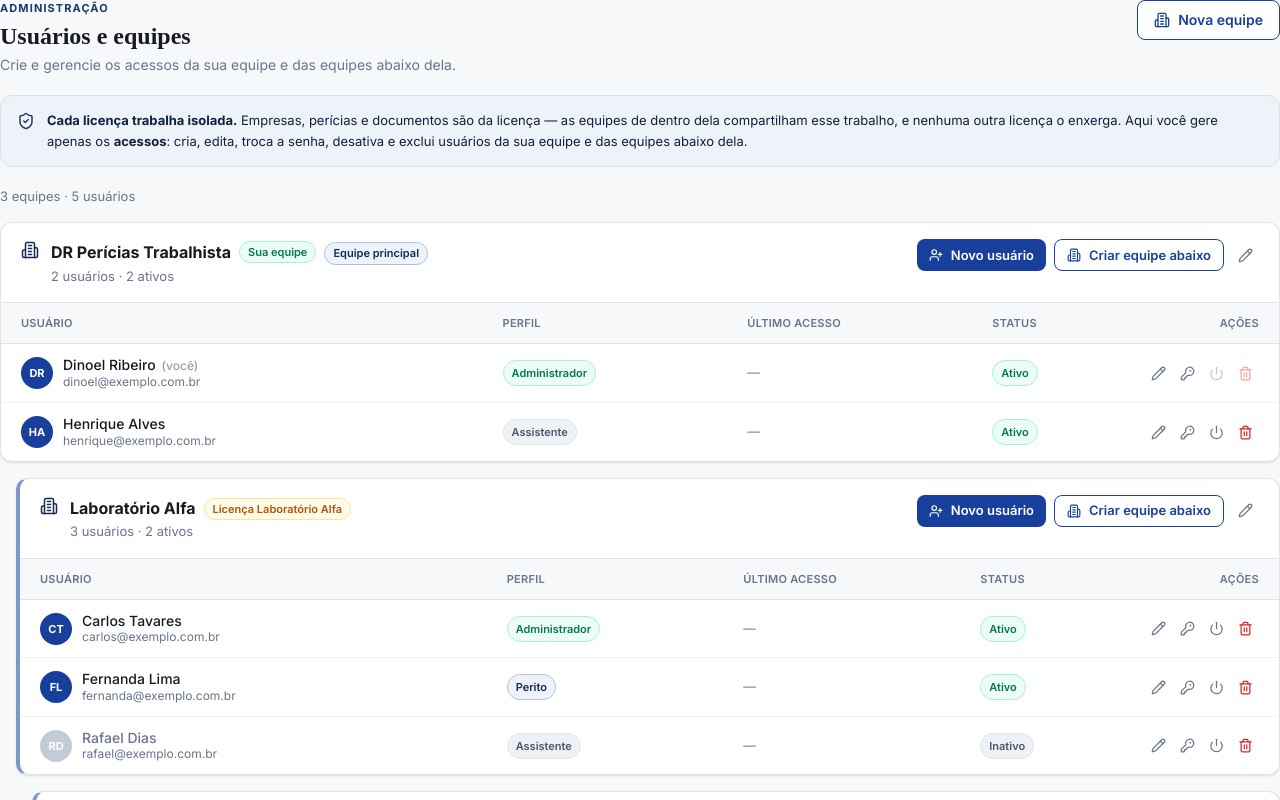
Test case: Usuários e equipes — cadastrar › pede a senha repetida e não cadastra se não conferir
The image size is (1280, 800).
Expected: the element named "Equipe DR Perícias Trabalhista" is shown, [0, 222, 1279, 462]
Click the button "Novo usuário" in the row of "Equipe principal" at x=981, y=255, box [917, 239, 1046, 271]
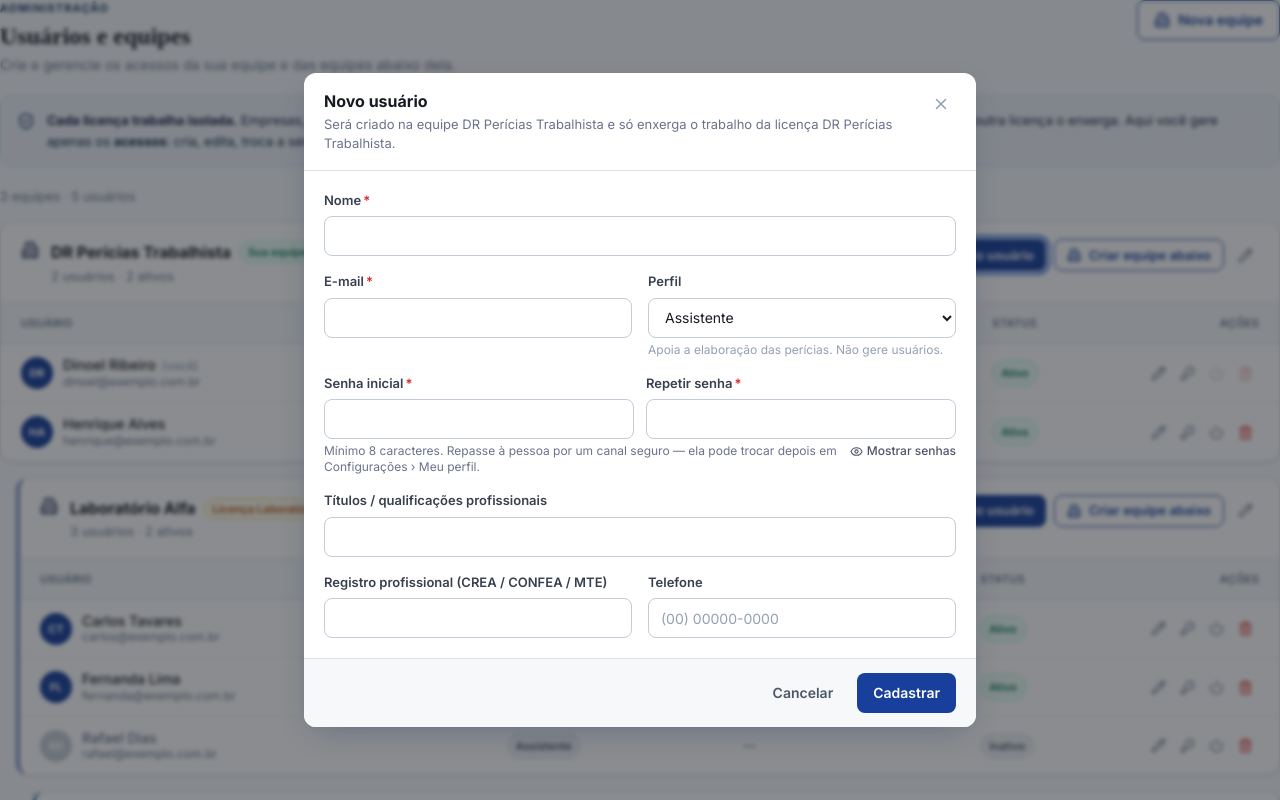
Type "Bruno" into the field labelled "Nome*" at x=640, y=236, box [324, 216, 956, 256]
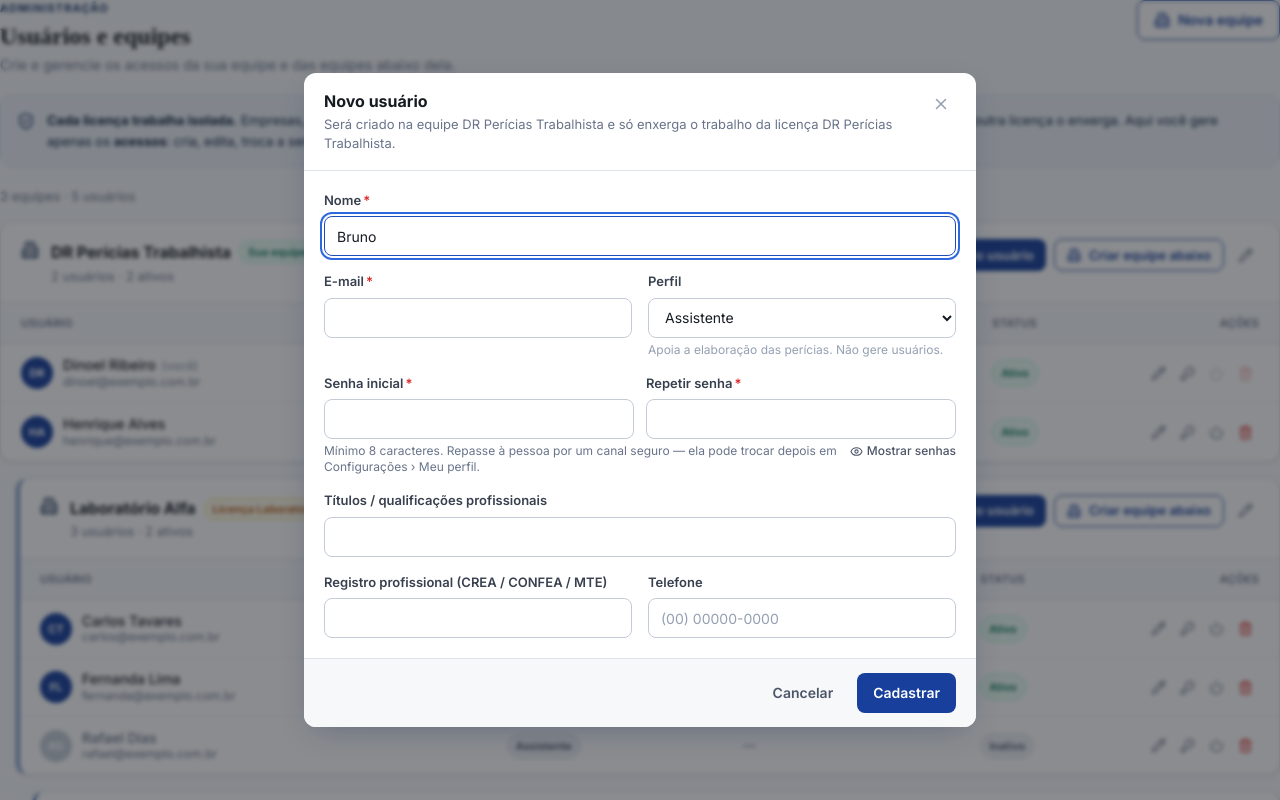
Type "bruno@x.com.br" into the field labelled "E-mail*" at x=478, y=318, box [324, 298, 632, 338]
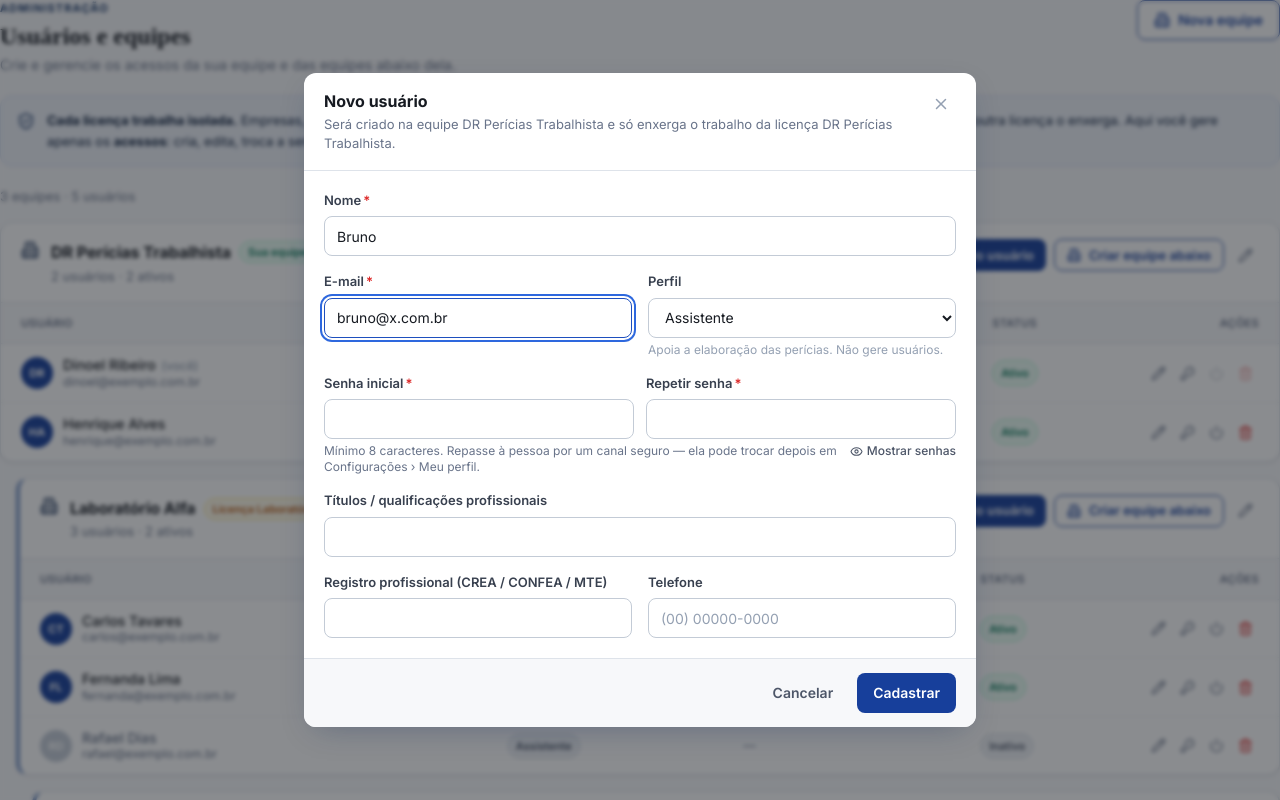
Type "senhaforte1" into the password field labelled "Senha inicial*" at x=479, y=419, box [324, 399, 634, 439]
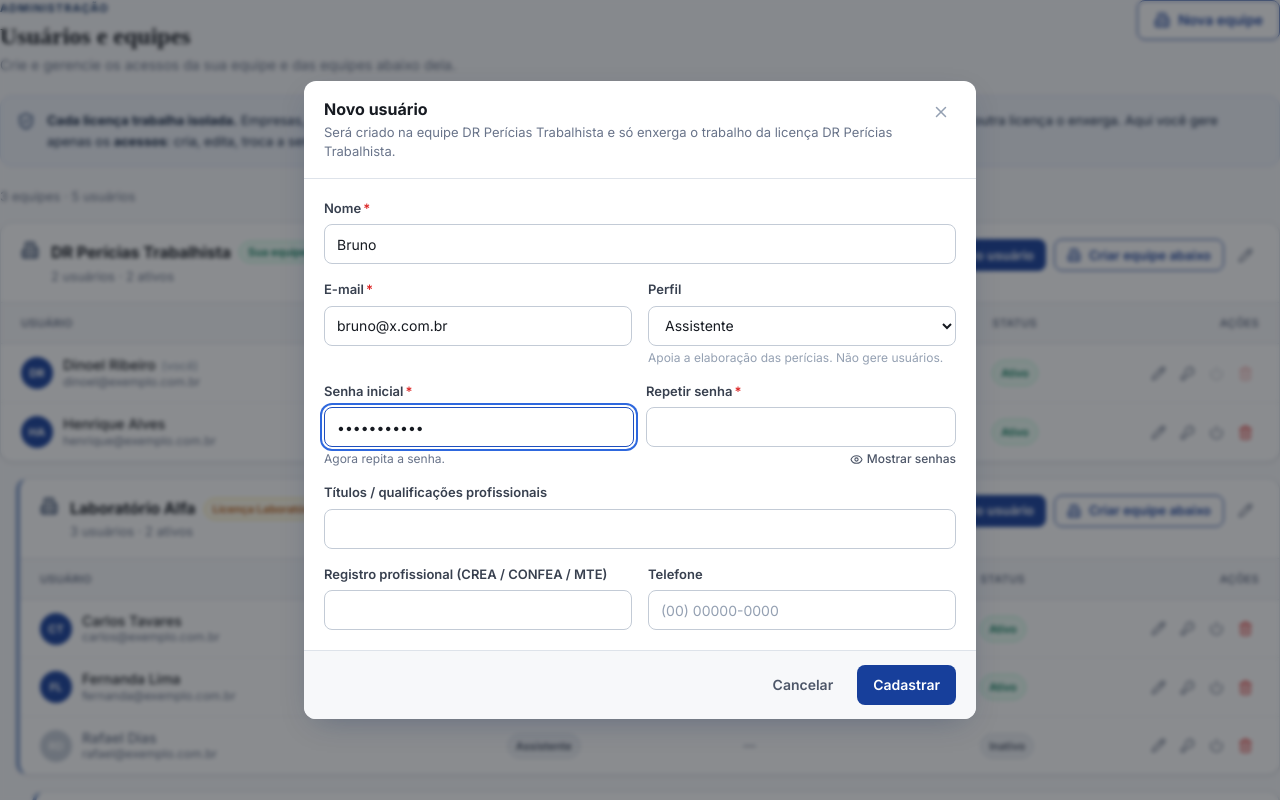
Type "senhaforte2" into the password field labelled "Repetir senha*" at x=801, y=427, box [646, 407, 956, 447]
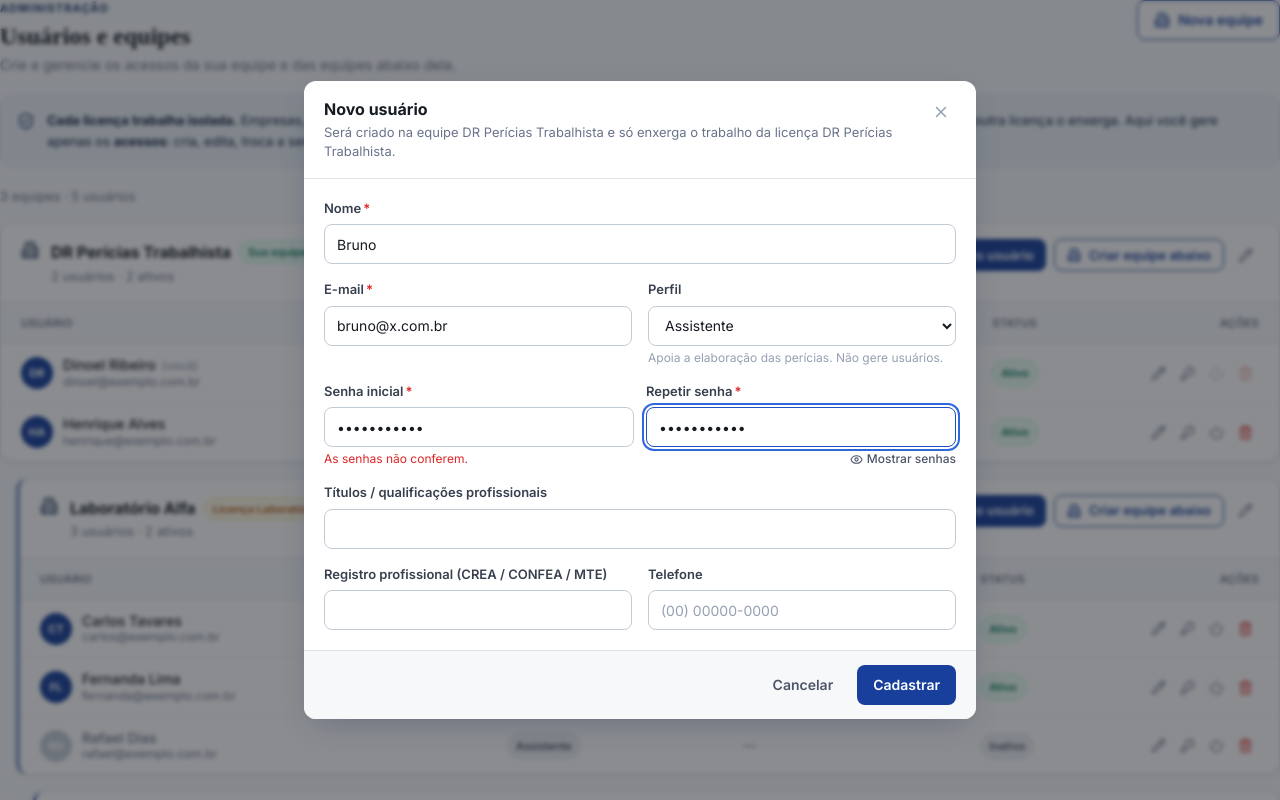
Now the text "As senhas não conferem." is shown, box [324, 451, 468, 467]
Click the button "Cadastrar" at x=907, y=685, box [857, 665, 956, 705]
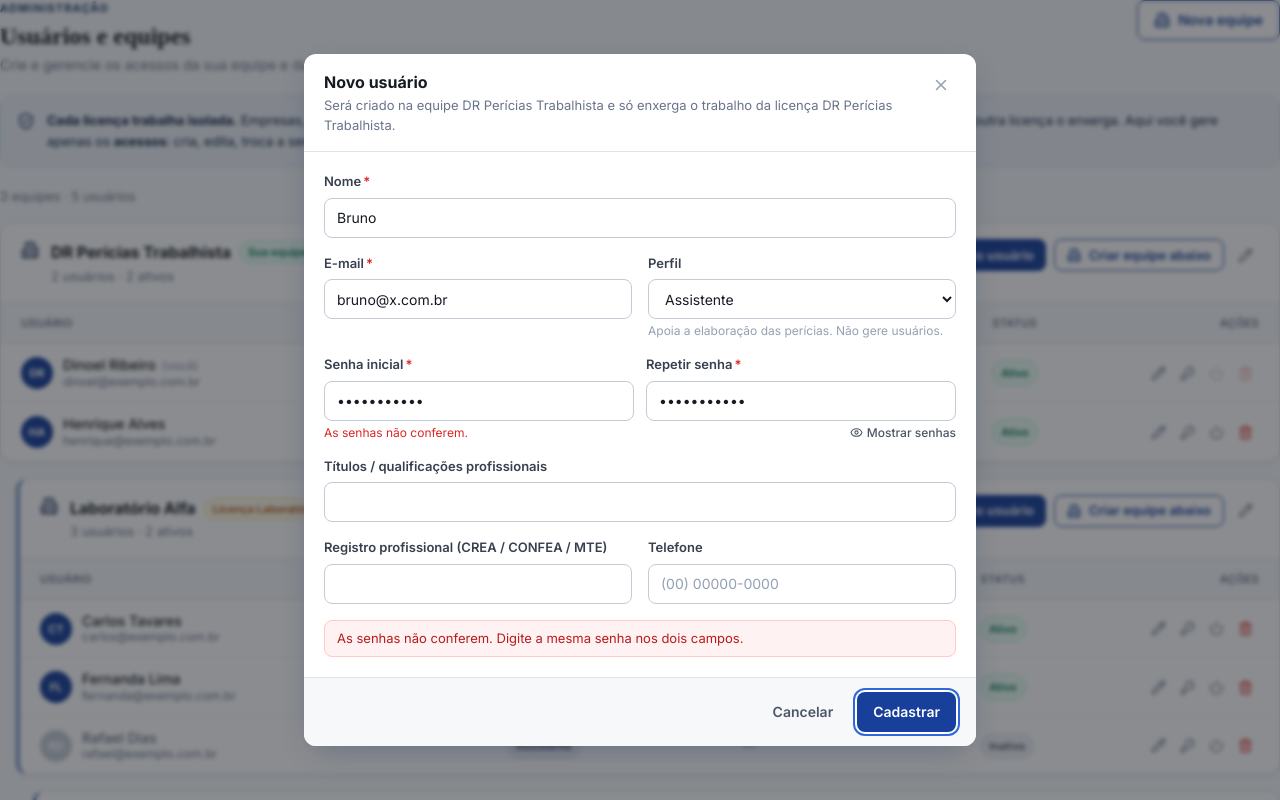
Now the message shows "As senhas não conferem", box [337, 630, 743, 646]
